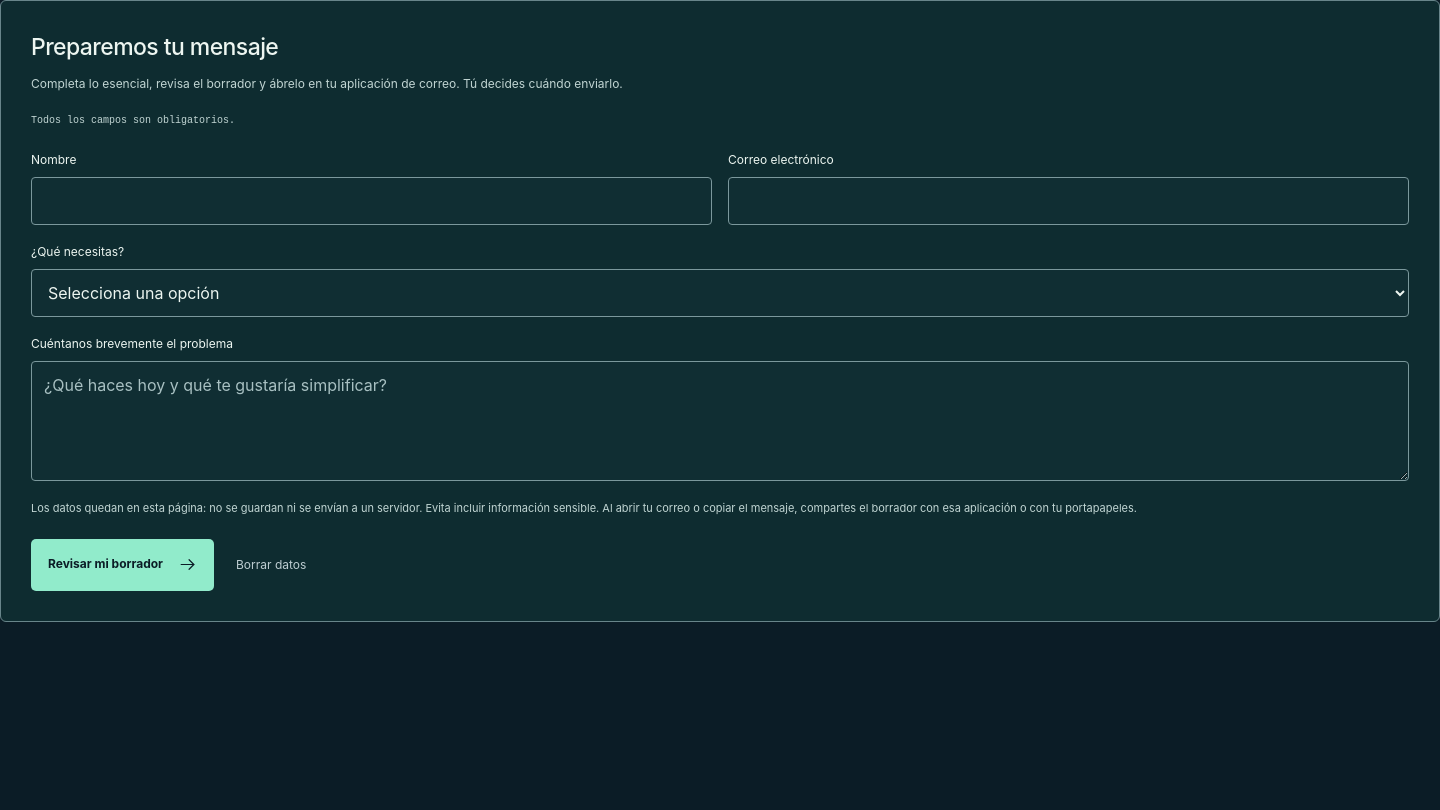
Test: local contact draft › announces errors, associates them with fields, and focuses the first invalid field
The width and height of the screenshot is (1440, 810).
Click the button "Revisar mi borrador" at (122, 565), box [31,539,214,591]
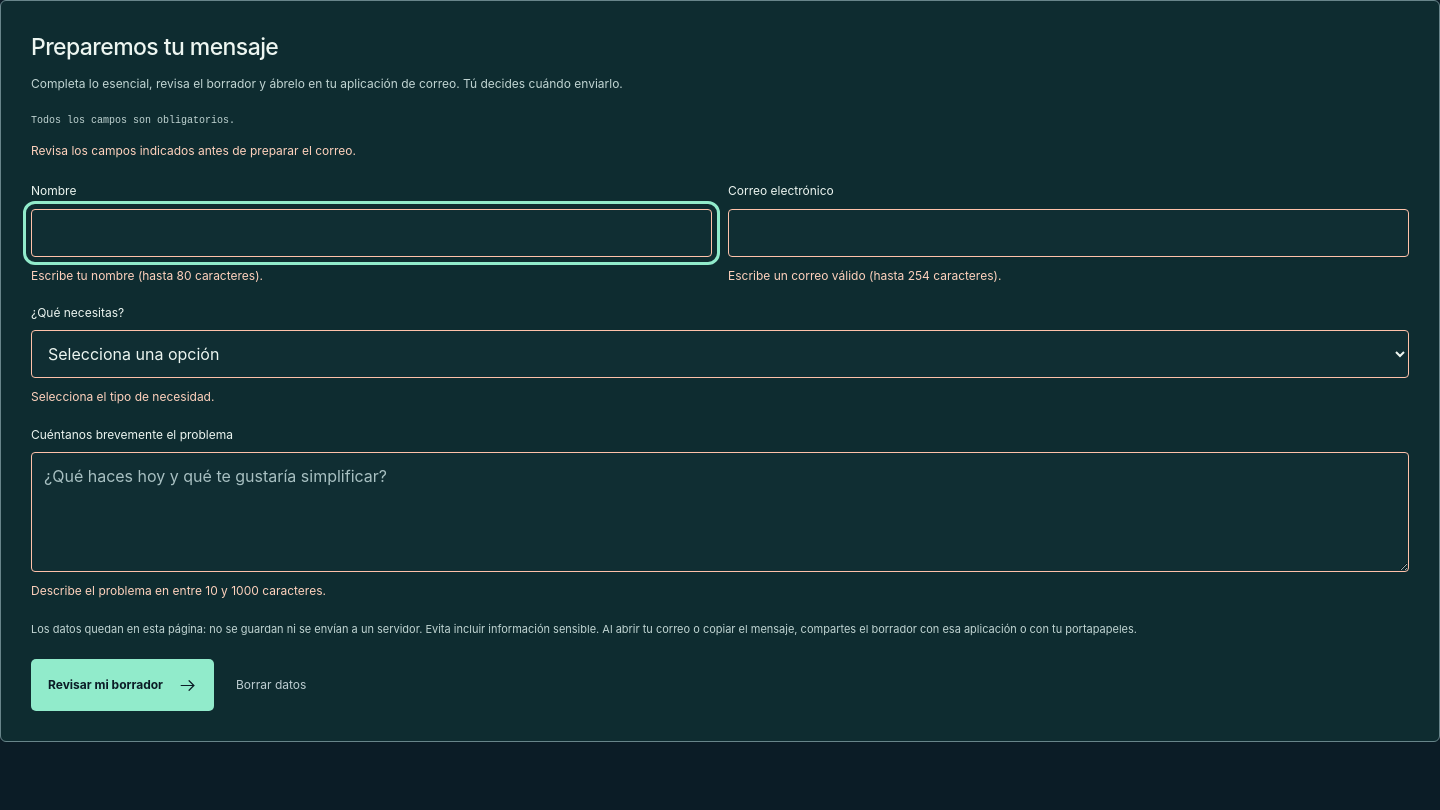
Expected: the message reads "Revisa los campos indicados antes de preparar el correo.", [31,143,356,158]
